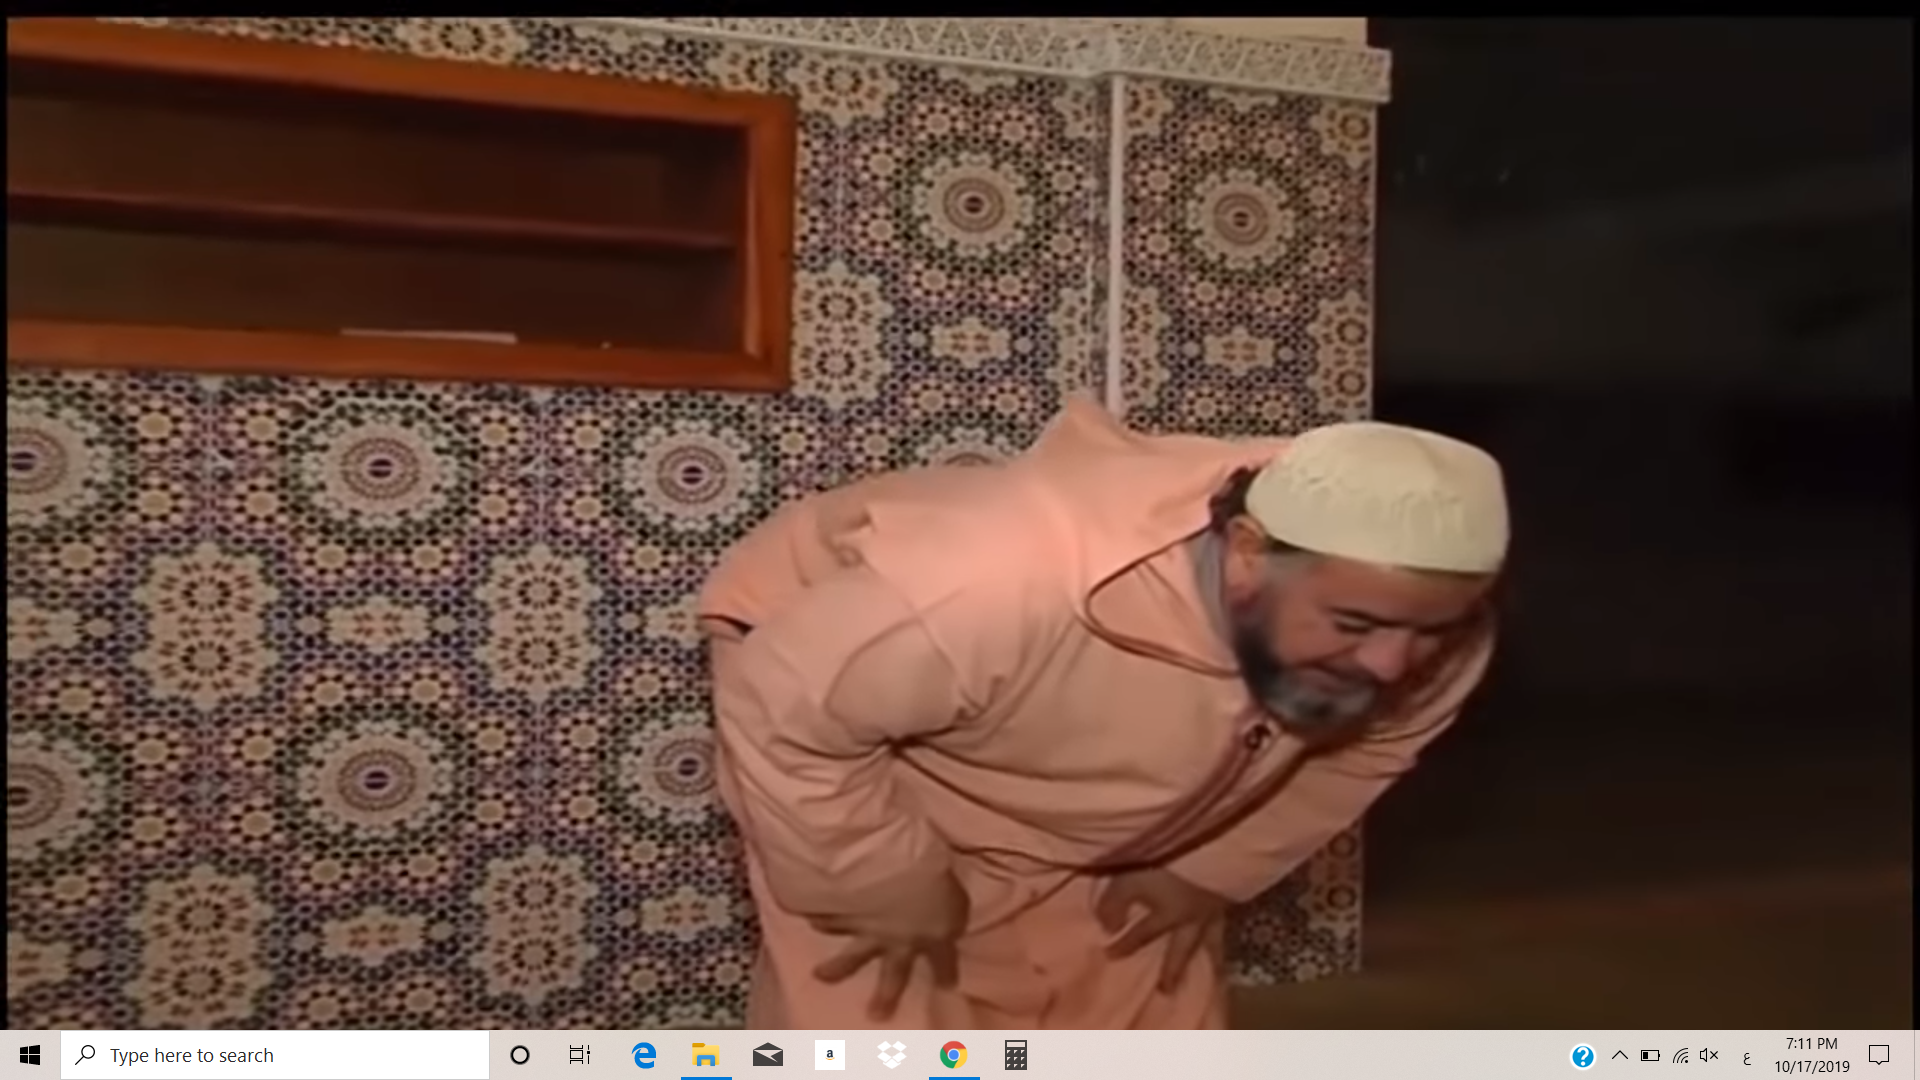ruku: (563, 286, 1604, 1080)
